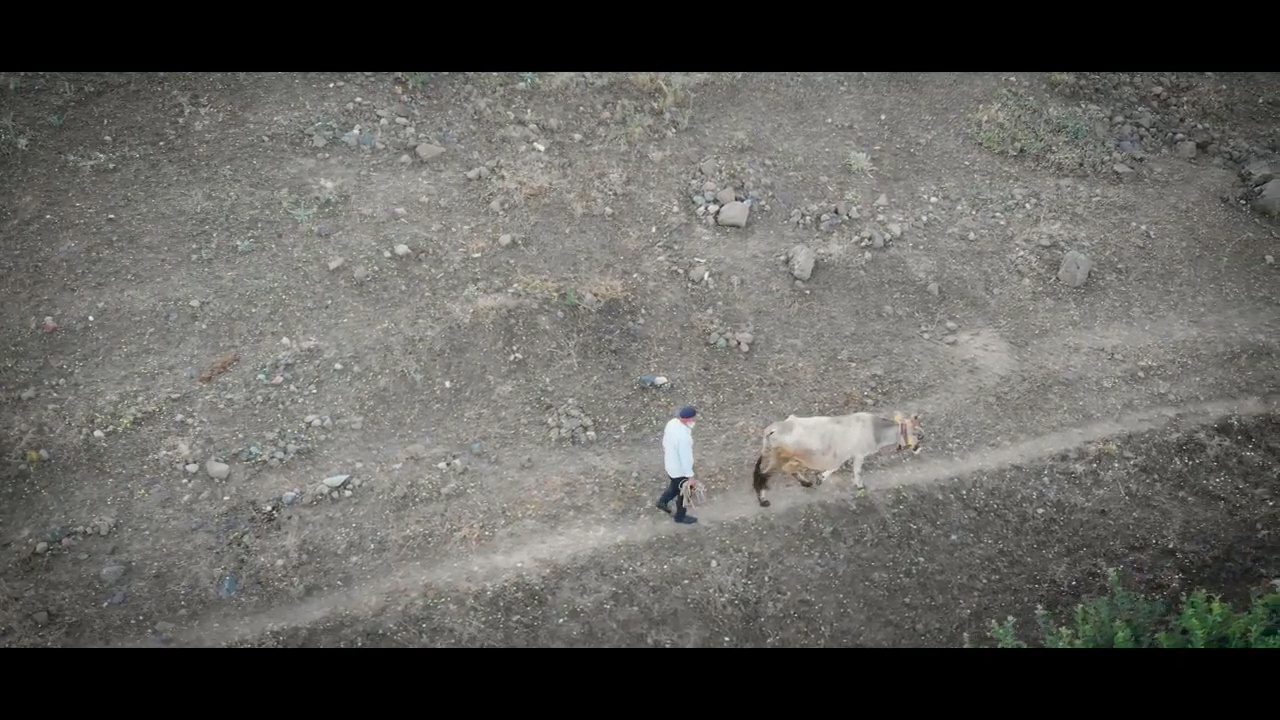insan: (654, 406, 704, 528)
